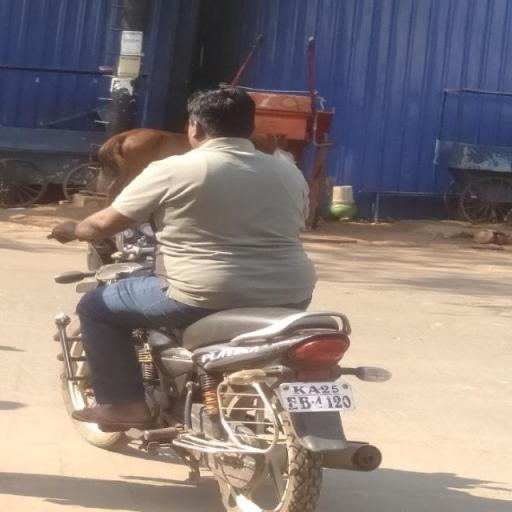bike: (45, 87, 387, 512)
numberplate: (278, 381, 359, 413)
withouthelmet: (190, 86, 255, 144)
